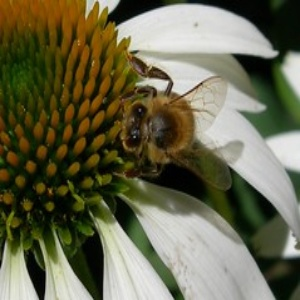bee: (119, 50, 235, 199)
